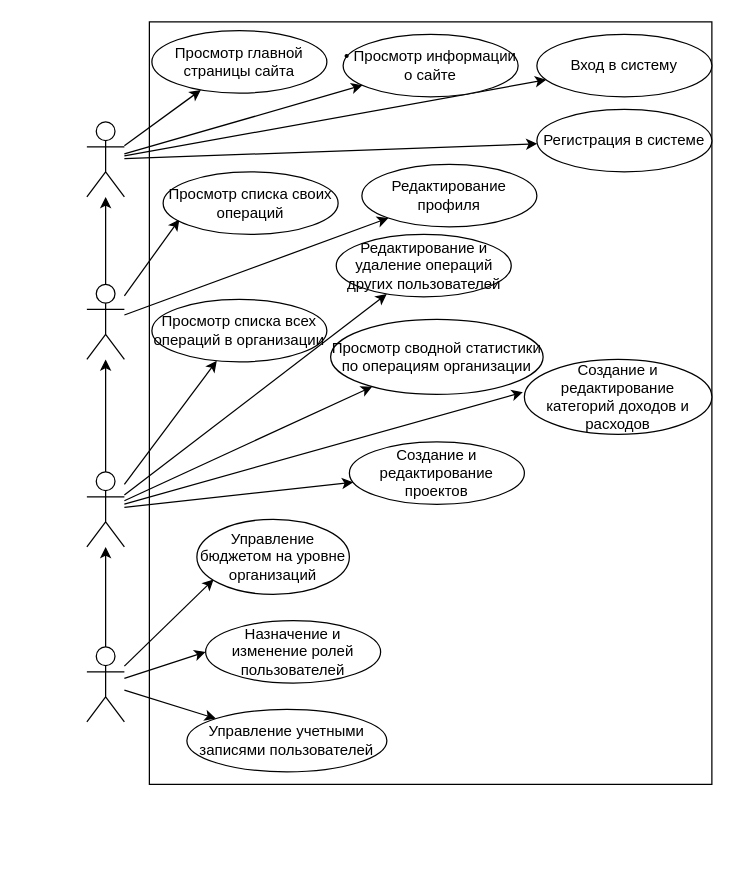
The diagram is 734 pixels wide and 878 high, and some of its shapes have lost their labels. The shapes that lost their labels are listed below. From the top down, each one's centre as x and y in pixels, then its label:
At point (105, 159): "Гость".
At point (105, 321): "Пользователь".
At point (105, 509): "Менеджер".
At point (105, 684): "Администратор".
